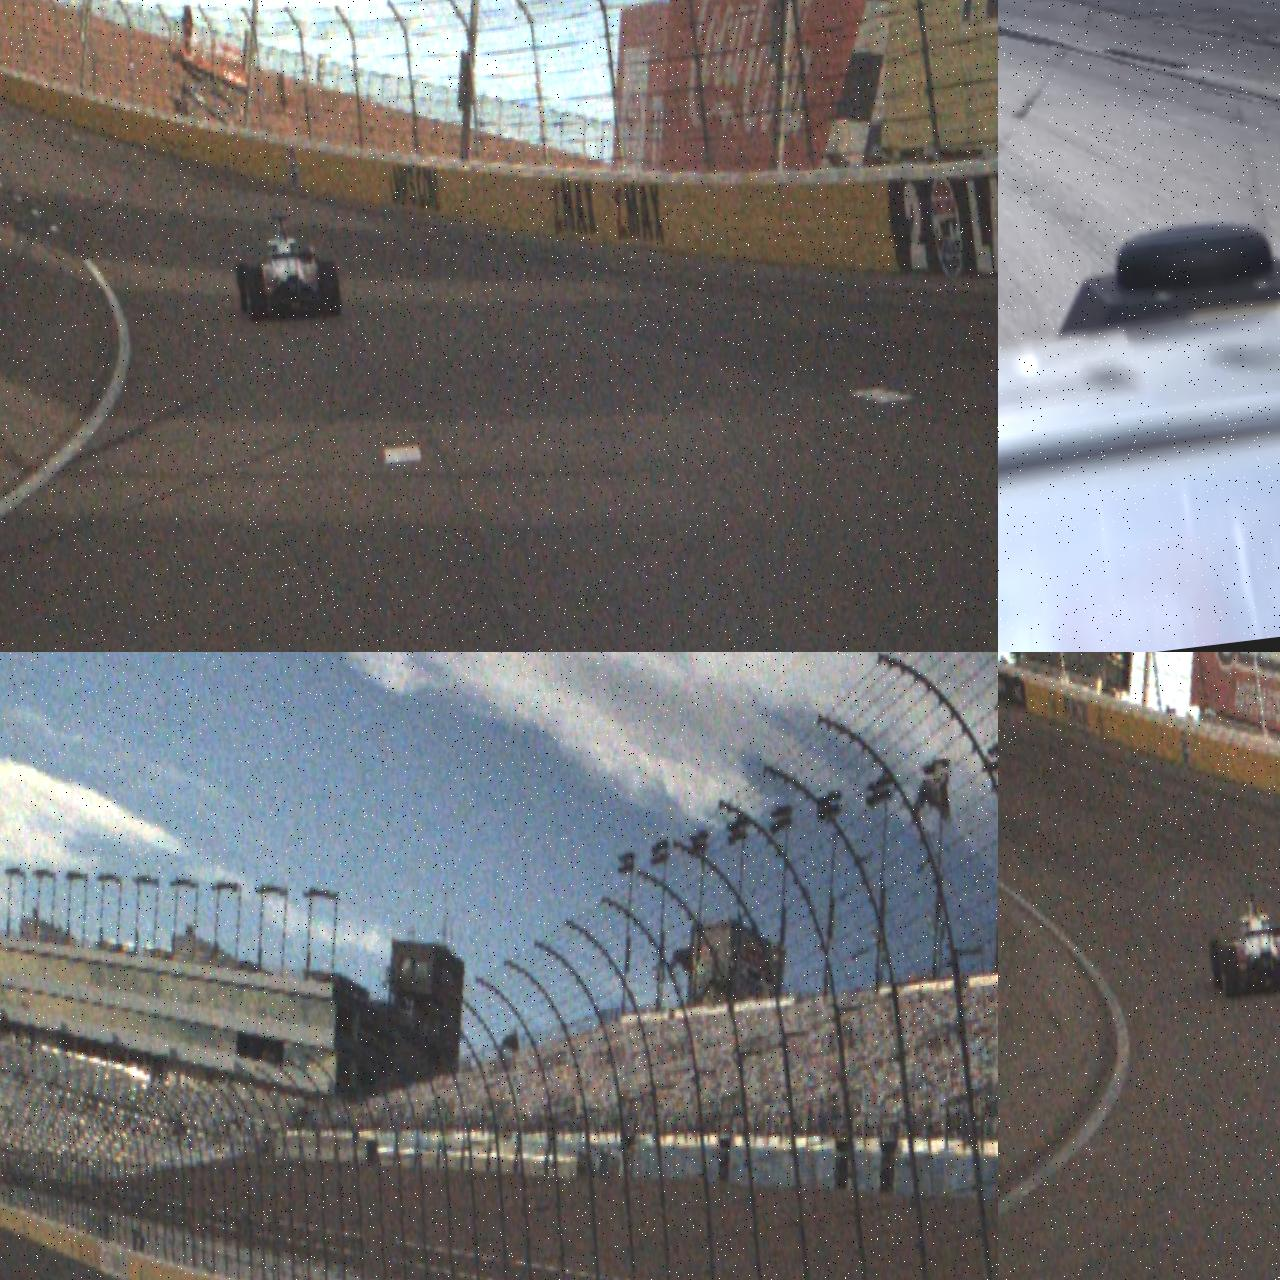AV: (228, 208, 344, 328), (1201, 885, 1280, 1004)
Wheel: (318, 260, 344, 318), (243, 266, 269, 322), (1219, 945, 1244, 1002), (234, 261, 256, 316), (1207, 938, 1227, 992)
